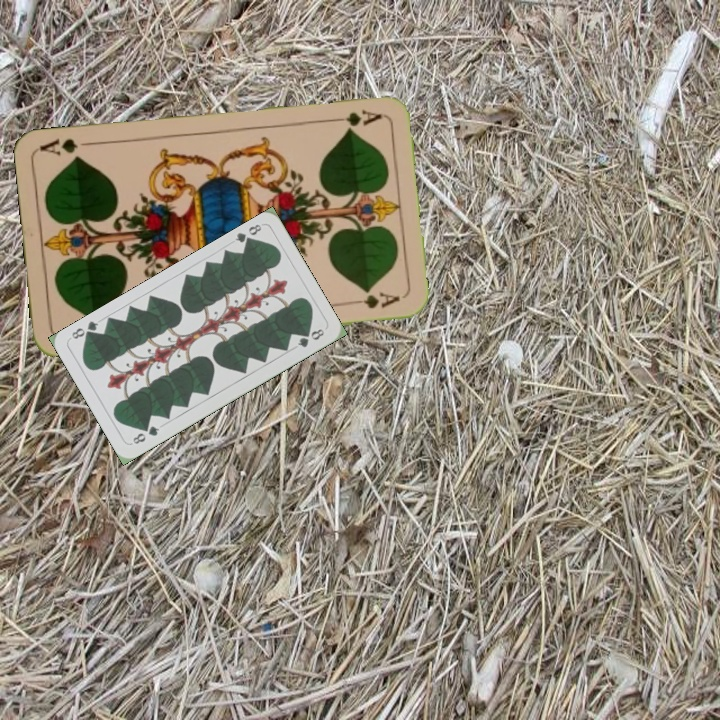G8: (231, 220, 264, 249), (128, 422, 162, 447)
GA: (327, 105, 384, 133)
